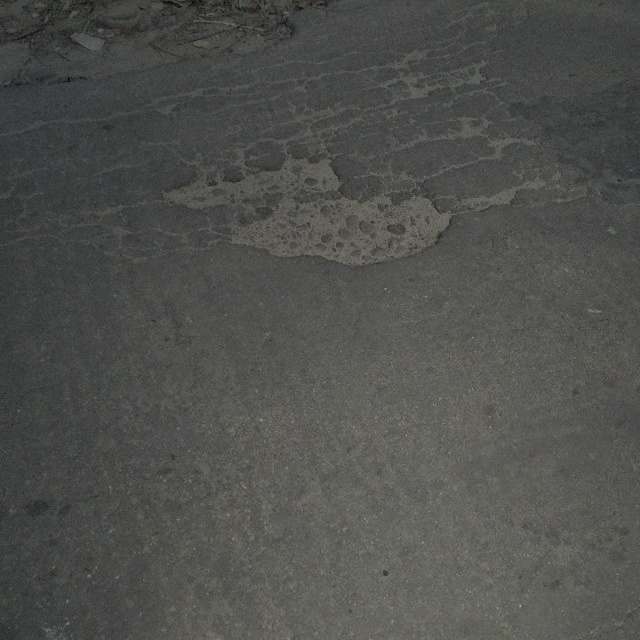pothole: (156, 151, 455, 267)
